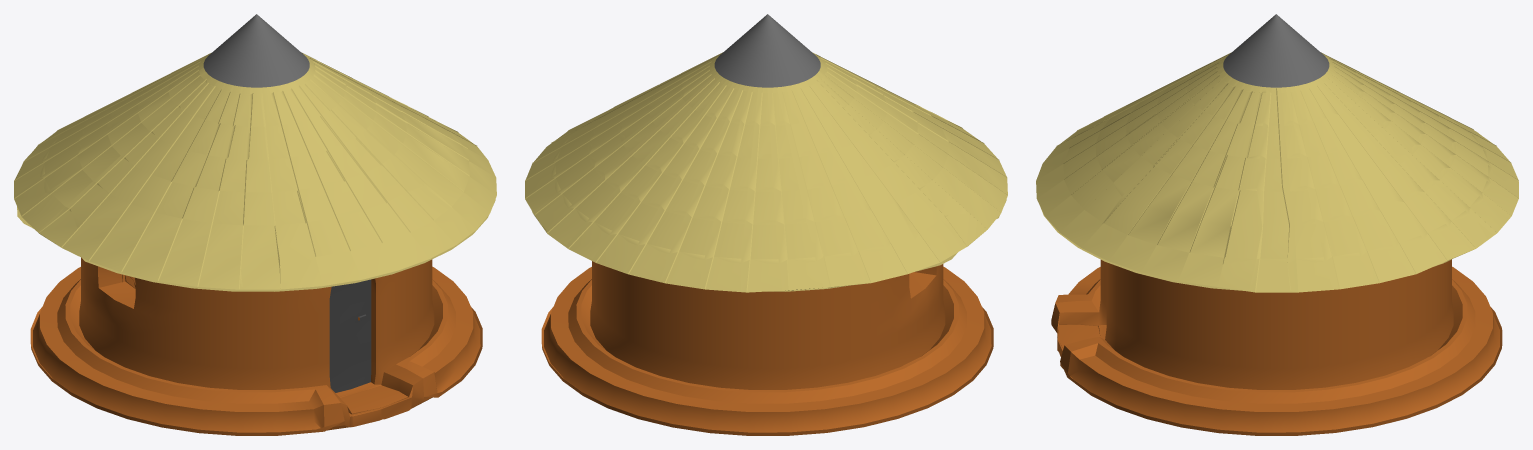
The model's file is Hut.fbx.
The picture shows the model from 3 angles, left to right: view 1: azimuth 30°, elevation 25°; view 2: azimuth 150°, elevation 25°; view 3: azimuth 270°, elevation 25°; orthographic projection.
Visible parts, largest first — view 1: hut; view 2: hut; view 3: hut.
Boxes of the visible parts, x1,y1,x2,y2 form: hut: (14,14,496,435); hut: (525,14,1007,435); hut: (1036,14,1518,435).
Size of the model in its own units: 547 by 413 by 546.
